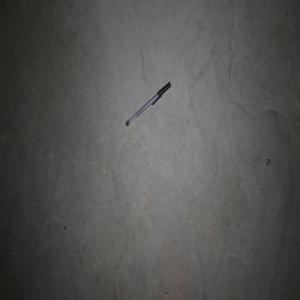Pen: (125, 81, 170, 126)
